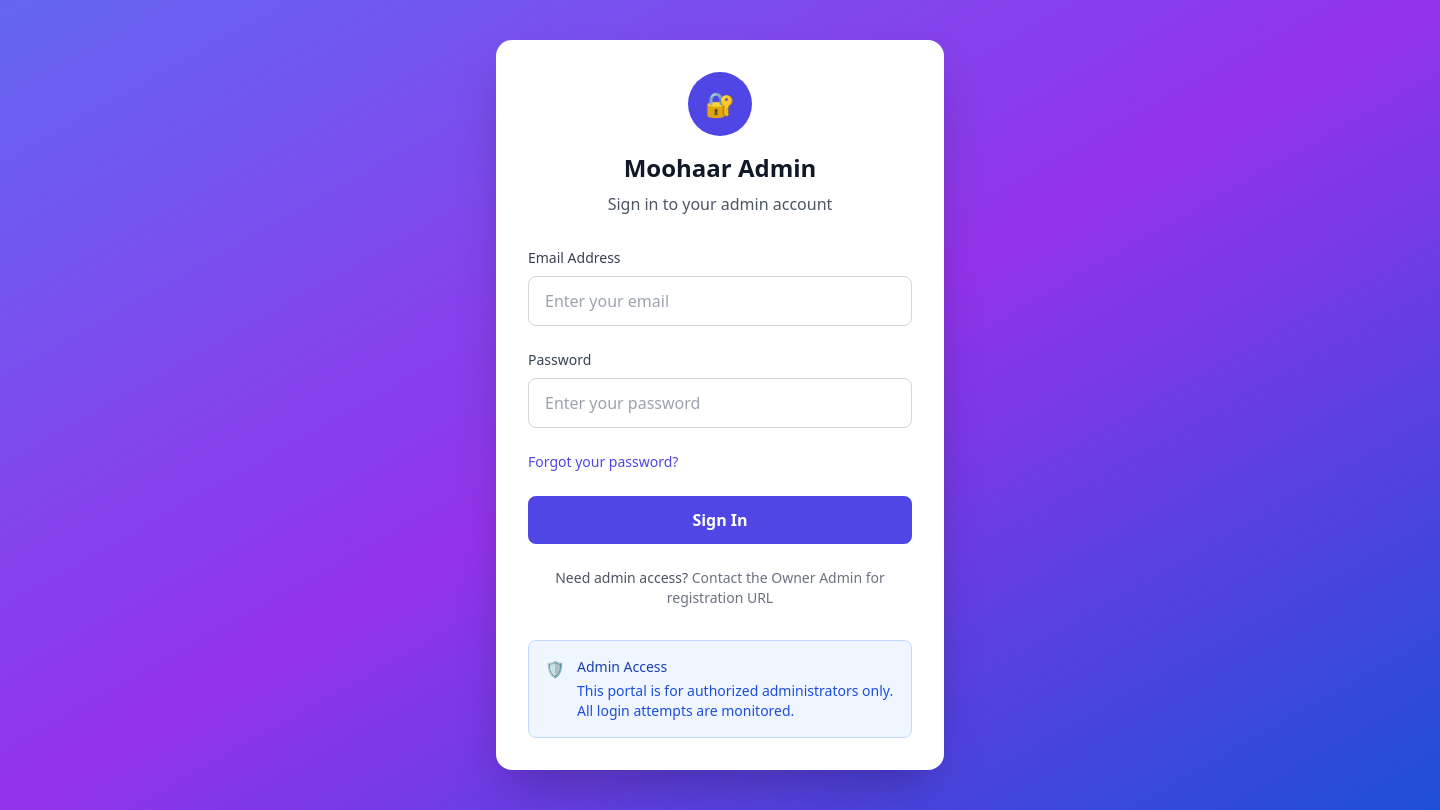
it: Admin Login › shows error for non-admin users
The width and height of the screenshot is (1440, 810).
Type "user@example.com" into the field labelled "Email Address" at (720, 301), box [528,276,912,326]
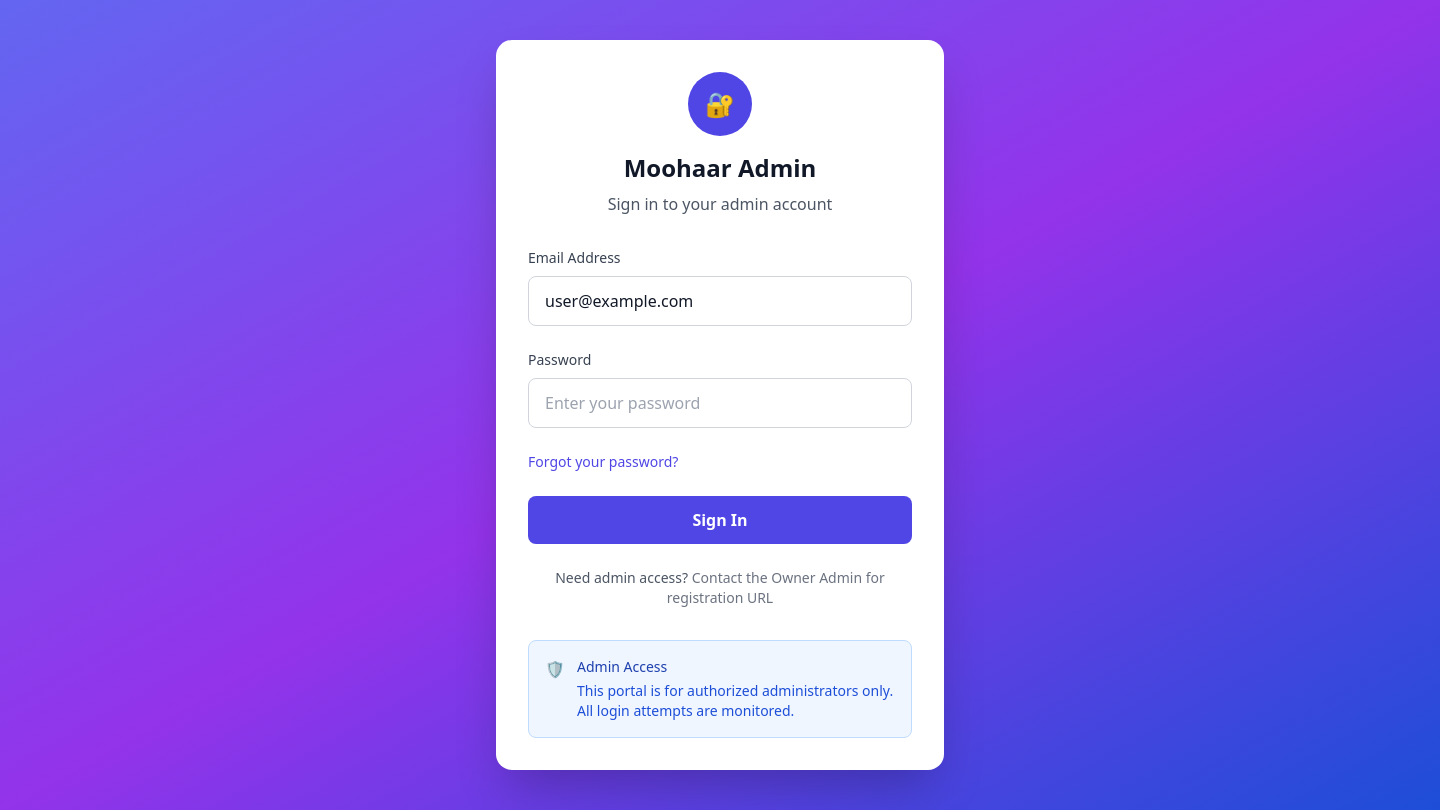
Type "password123" into the password field labelled "Password" at (720, 403), box [528,378,912,428]
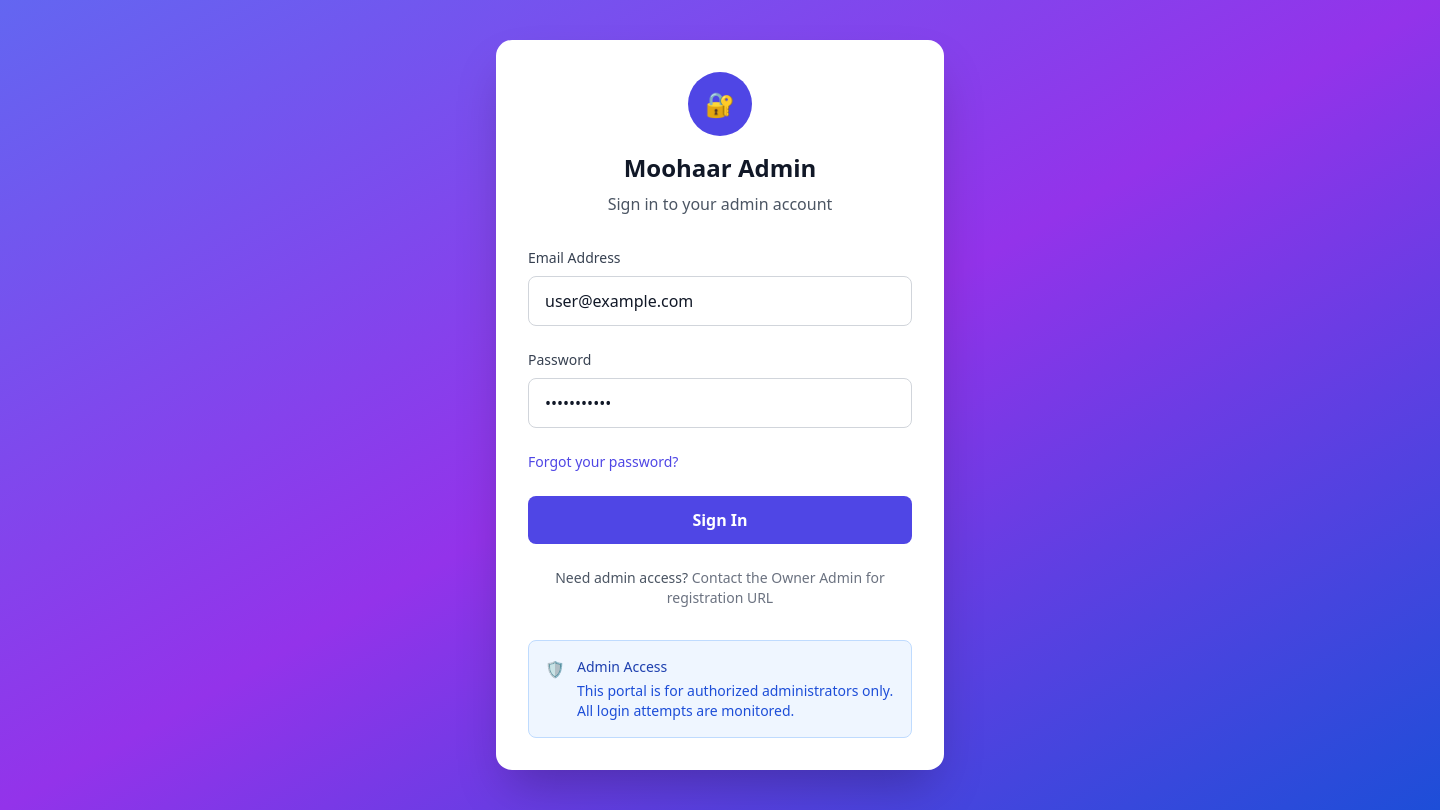
Click the button "Sign In" at (720, 520), box [528,496,912,544]
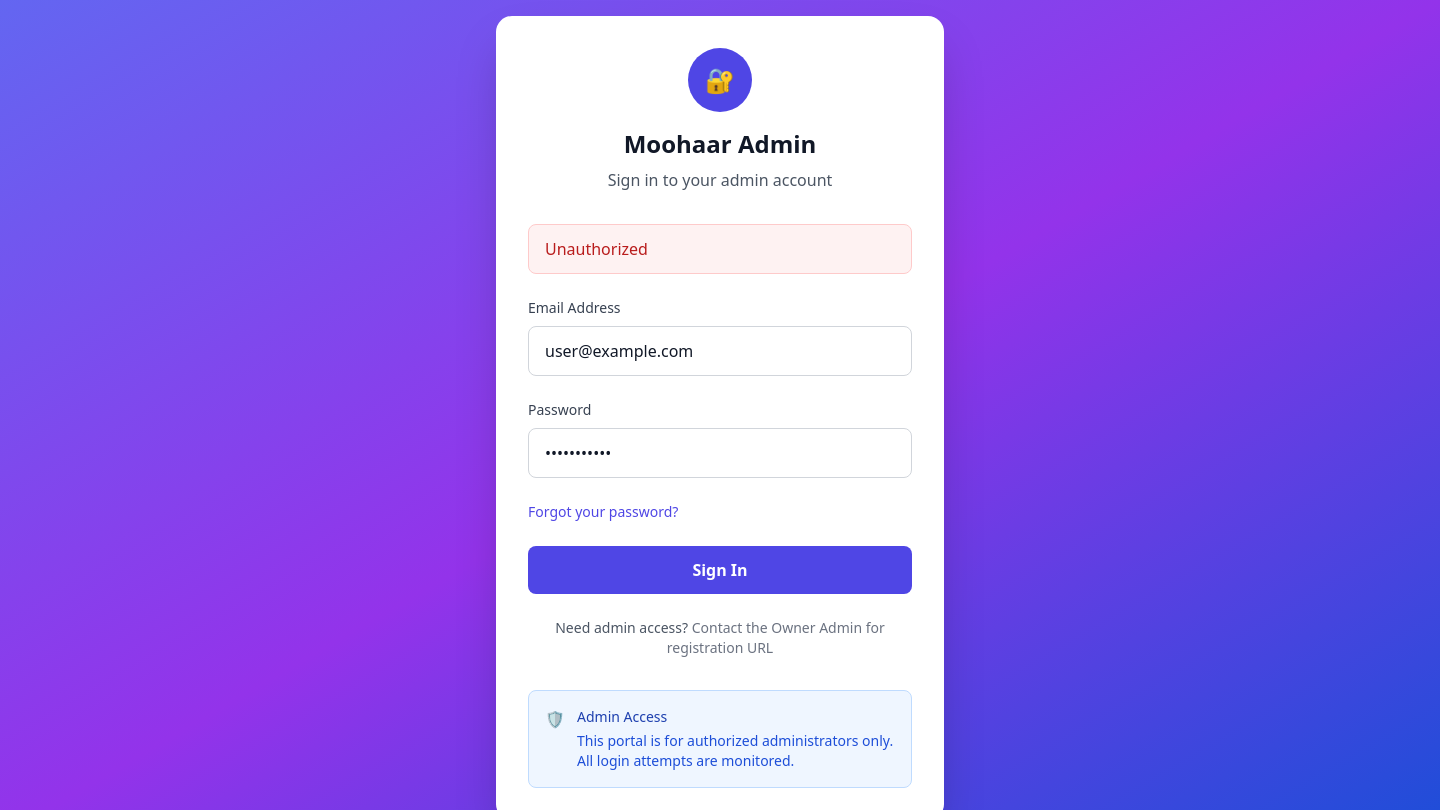
Expected: the text "Unauthorized" is shown, [528,224,912,274]
